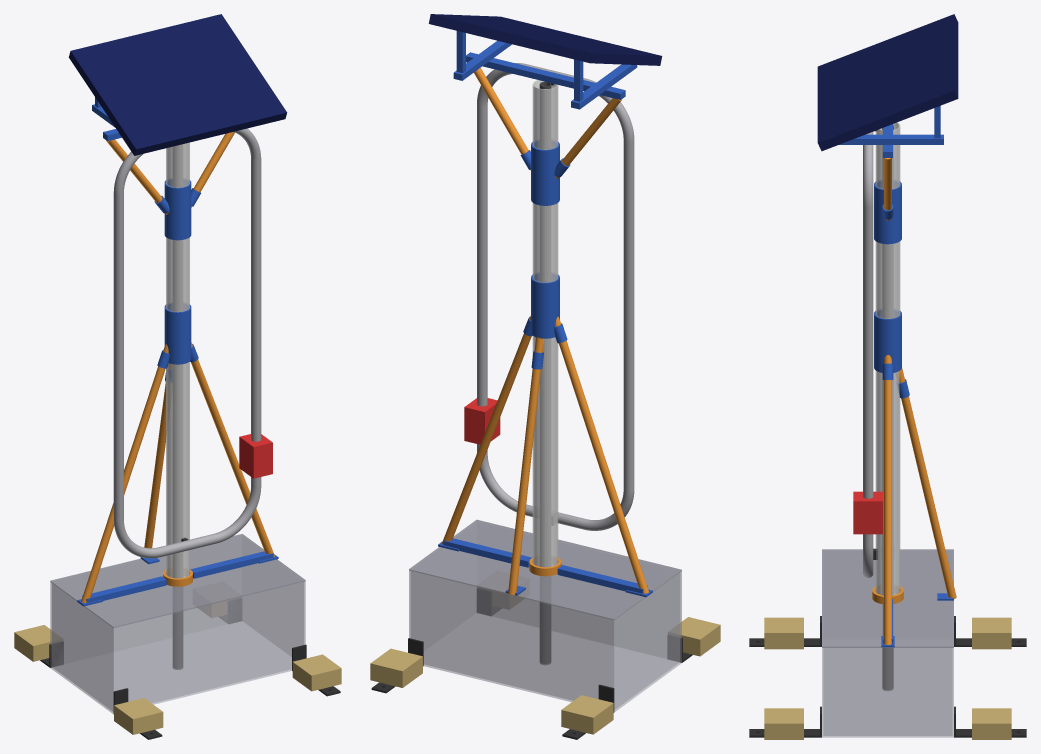
3 views of the same model, side by side, from view 1: azimuth 30°, elevation 25°; view 2: azimuth 150°, elevation 25°; view 3: azimuth 270°, elevation 25° (orthographic). The views are drawn at different scales.
Parts seen in each view (by area): view 1: tank, solar_panel_40W, track_loop, lid, growing_pipe, lower_aframe_and_back_strut, sandbags, spine_tube, brace_couplings, base_bar_and_lid_plates, fold_out_feet, cart (+1 smaller); view 2: tank, lid, track_loop, growing_pipe, lower_aframe_and_back_strut, spine_tube, solar_panel_40W, sandbags, brace_couplings, panel_rails_and_posts, base_bar_and_lid_plates, fold_out_feet (+3 smaller); view 3: solar_panel_40W, tank, lid, growing_pipe, sandbags, track_loop, lower_aframe_and_back_strut, brace_couplings, spine_tube, fold_out_feet, cart, panel_rails_and_posts.
Part boxes in pixels (x1,y1,x2,y2): tank: (50,581,305,713); solar_panel_40W: (68,14,287,155); track_loop: (113,128,261,558); lid: (50,534,305,628); growing_pipe: (166,142,189,578); lower_aframe_and_back_strut: (81,342,274,602); sandbags: (14,601,341,734); spine_tube: (173,144,182,669); brace_couplings: (154,179,200,381); base_bar_and_lid_plates: (77,551,278,606); fold_out_feet: (40,598,340,739); cart: (239,434,272,478); tank: (409,521,681,712); lid: (409,519,681,620); track_loop: (477,63,634,530); growing_pipe: (532,80,558,567); lower_aframe_and_back_strut: (442,316,648,594); spine_tube: (539,81,551,664); solar_panel_40W: (428,14,662,65); sandbags: (370,591,720,734); brace_couplings: (520,141,570,369); panel_rails_and_posts: (453,31,637,109); base_bar_and_lid_plates: (438,538,652,597); fold_out_feet: (371,588,692,739); solar_panel_40W: (817,14,958,151); tank: (822,551,953,737); lid: (822,549,953,647); growing_pipe: (875,122,900,595); sandbags: (764,617,1011,739); track_loop: (863,132,873,578); lower_aframe_and_back_strut: (884,355,956,644); brace_couplings: (874,181,909,398); spine_tube: (882,125,893,690); fold_out_feet: (749,616,1026,737); cart: (853,491,882,534); panel_rails_and_posts: (839,106,943,144).
Size of the model in its own units: 760 by 2130 by 840.
